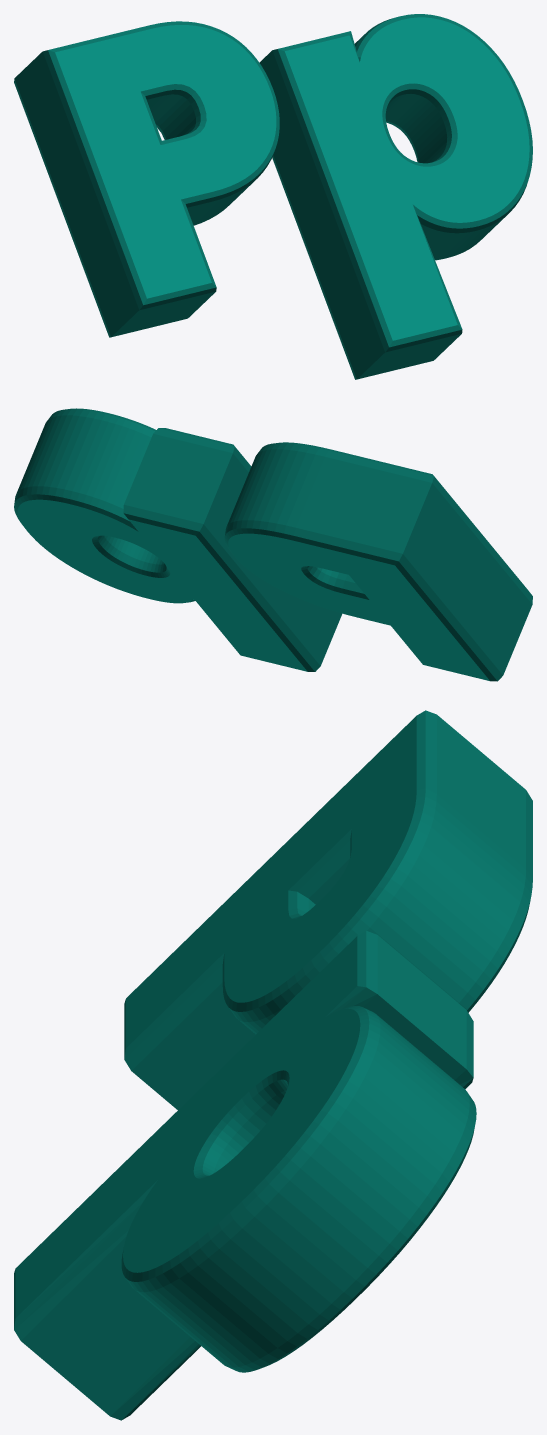
The picture shows the model from 3 angles, top to bottom: view 1: azimuth 30°, elevation 25°; view 2: azimuth 150°, elevation 25°; view 3: azimuth 270°, elevation 25°; orthographic projection. The views are drawn at different scales.
Visible parts, largest first — view 1: letter; view 2: letter; view 3: letter.
Part boxes in pixels (x1,y1,x2,y2): letter: (14,14,532,379); letter: (14,408,532,681); letter: (14,710,532,1420).
Bounding box in the file's own units: 1.77 × 1.24 × 1.19.
